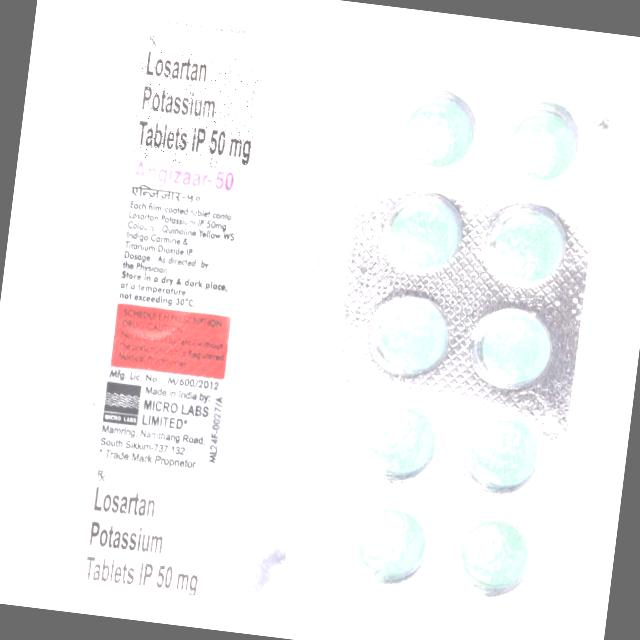Medicine-name: (129, 49, 265, 173)
